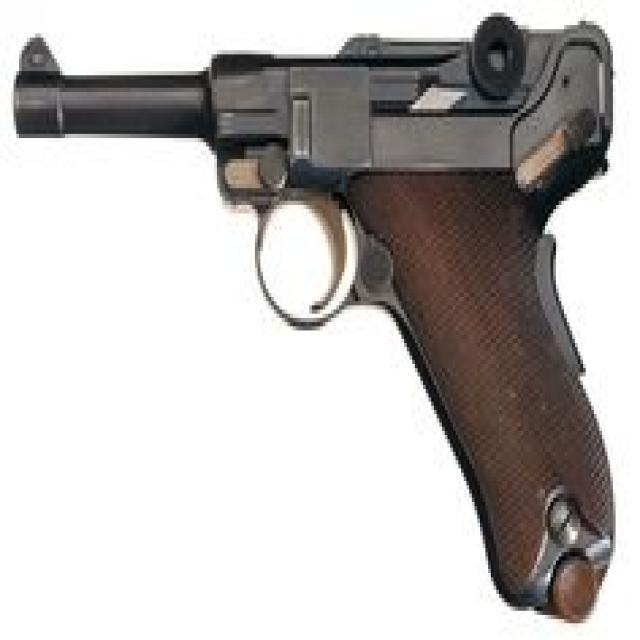semi automatic: (10, 8, 627, 626)
